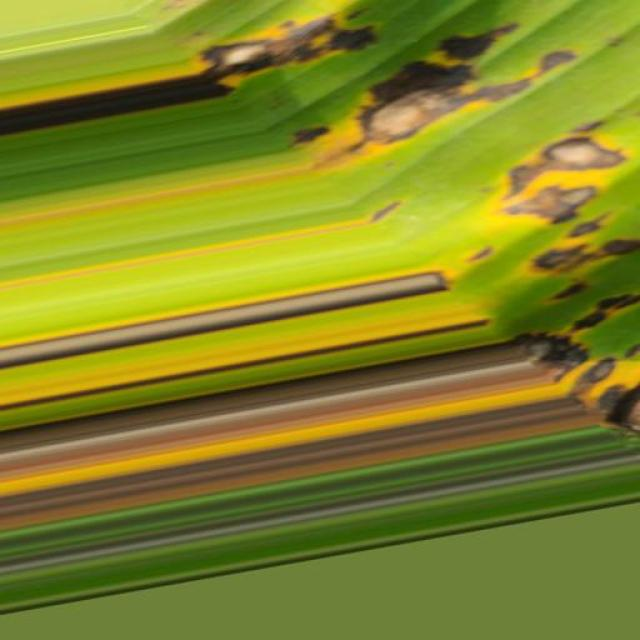Early_rust: (147, 0, 640, 450)
